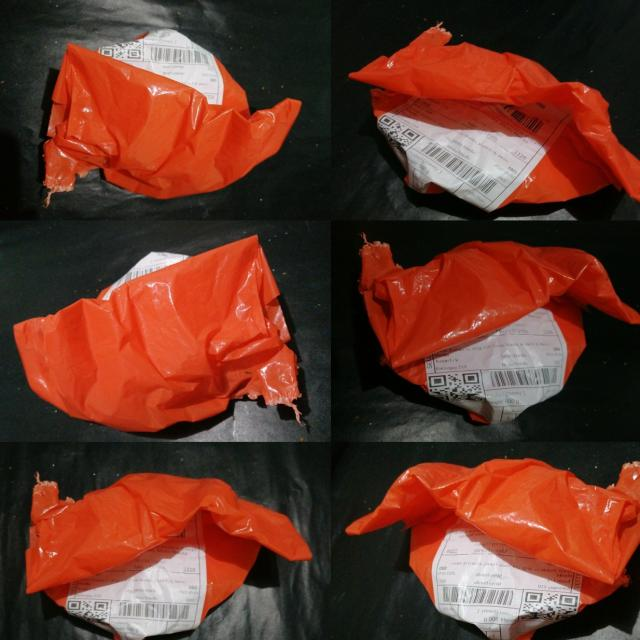plastik: (15, 235, 300, 432), (349, 25, 640, 212), (345, 458, 640, 640), (360, 242, 640, 423), (26, 473, 310, 640), (44, 29, 301, 203)
